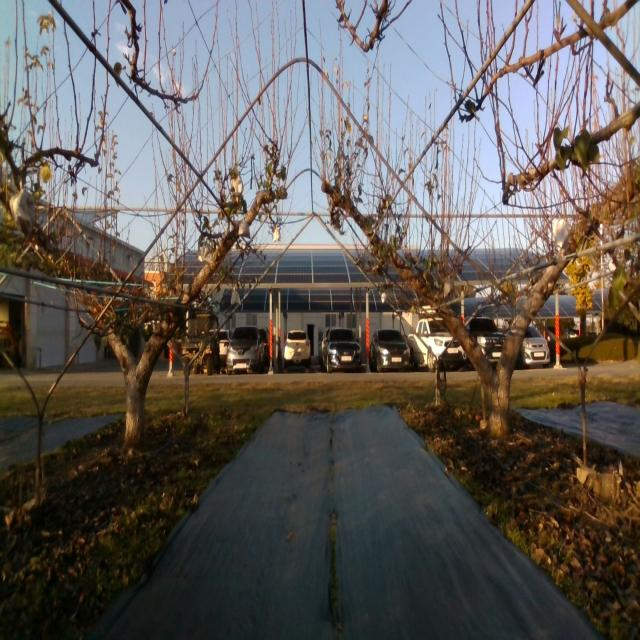pearbags: (9, 187, 35, 238), (552, 219, 568, 249), (200, 240, 214, 262), (232, 174, 244, 195), (239, 220, 250, 238), (444, 280, 454, 299)
